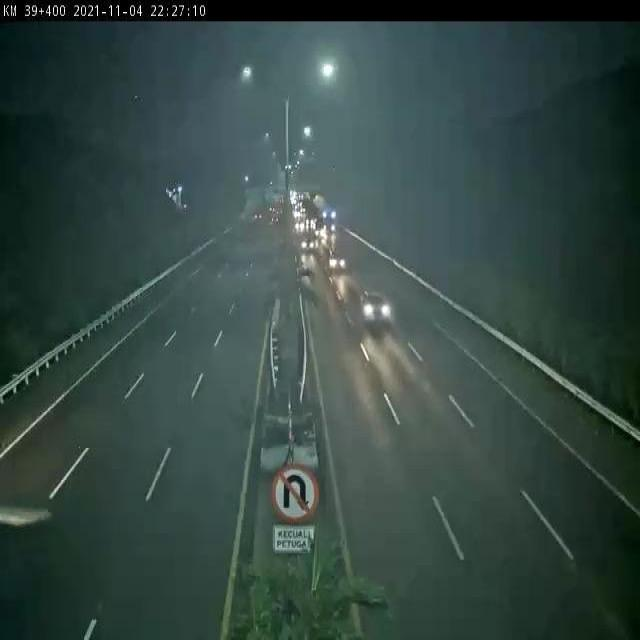car: (359, 288, 391, 325), (326, 252, 345, 272)
